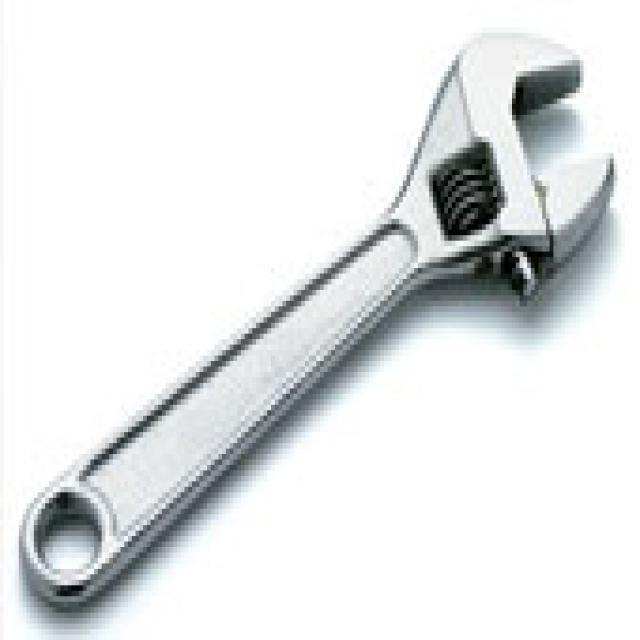wrench: (13, 21, 620, 616)
